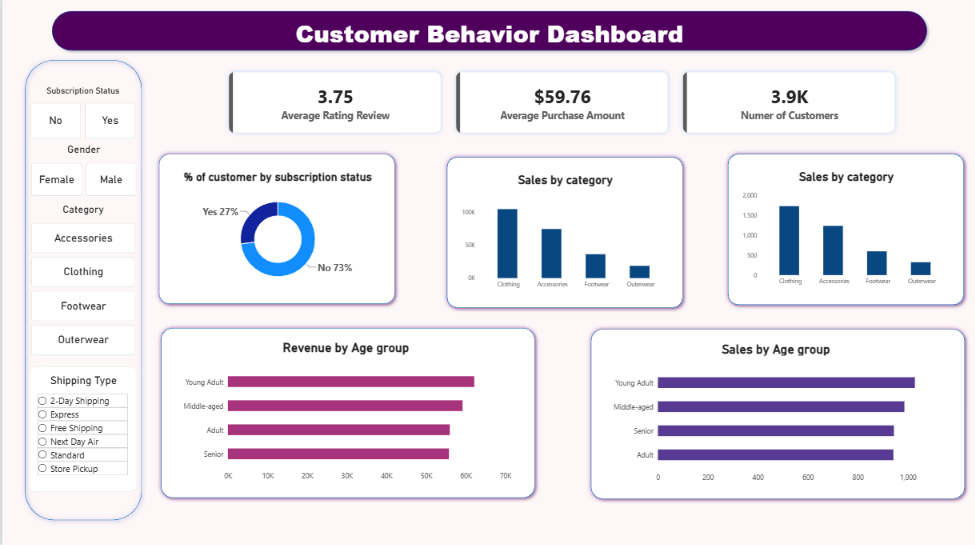

This screenshot's page, from the dashboard's own definition file:
{"tool":"powerbi","page":{"name":"Page 1","canvas":[1949,1096],"ordinal":0},"visuals":[{"type":"cardVisual","fields":{"Data":["public customer.Average Rating Review","public customer.Average Purchase Amount","public customer.Numer of Customers"]},"box":[442.8,135.6,1356,144],"z":0},{"type":"shape","box":[90,16,1768.6,97.7],"z":1000},{"type":"shape","box":[304,301.2,490,318],"z":2000},{"type":"donutChart","title":"% of customer by subscription status","fields":{"Category":["public customer.subscription_status"],"Y":["CountNonNull(public customer.customer_id)"]},"box":[328,327.2,446,266],"z":3000},{"type":"shape","box":[308,650,766,358],"z":4000},{"type":"shape","box":[1442,301.2,490,320],"z":5000},{"type":"clusteredColumnChart","title":"Sales by category","fields":{"Category":["public customer.category"],"Y":["CountNonNull(public customer.customer_id)"]},"box":[1464,327.2,448,266],"z":6000},{"type":"shape","box":[36,114,252,938.8],"z":7000},{"type":"advancedSlicerVisual","title":"Subscription Status","fields":{"Values":["public customer.subscription_status"]},"box":[56,174,210,106],"z":8000},{"type":"advancedSlicerVisual","title":"Gender","fields":{"Values":["public customer.gender"]},"box":[58,290,210,106],"z":9000},{"type":"advancedSlicerVisual","title":"Category","fields":{"Values":["public customer.category"]},"box":[58,410.8,208,304],"z":10000},{"type":"listSlicer","title":"Shipping Type","fields":{"Values":["public customer.shipping_type"]},"box":[53.6,736.4,214.8,250],"z":11000},{"type":"barChart","title":"Revenue by Age group","fields":{"Category":["public customer.age_group"],"Y":["Sum(public customer.purchase_amount)"]},"box":[340,670,694,316],"z":12000},{"type":"shape","box":[880.8,308,490,320],"z":13000},{"type":"clusteredColumnChart","title":"Sales by category","fields":{"Category":["public customer.category"],"Y":["Sum(public customer.purchase_amount)"]},"box":[902.8,334,448,266],"z":14000},{"type":"shape","box":[1167.6,652,766,358],"z":15000},{"type":"barChart","title":"Sales by Age group","fields":{"Category":["public customer.age_group"],"Y":["CountNonNull(public customer.customer_id)"]},"box":[1199.6,672,694,316],"z":16000}]}

Visuals, with their boxes in screenshot pixels (x1, y1, x2, y2), scaled from the page's 1949x1096 canvas onto the 975x545 screenshot:
cardVisual - public customer.Average Rating Review x public customer.Average Purchase Amount: bbox=[222, 67, 900, 139]
shape: bbox=[45, 8, 930, 57]
shape: bbox=[152, 150, 397, 308]
"% of customer by subscription status" donutChart: bbox=[164, 163, 387, 295]
shape: bbox=[154, 323, 537, 501]
shape: bbox=[721, 150, 966, 309]
"Sales by category" clusteredColumnChart: bbox=[732, 163, 956, 295]
shape: bbox=[18, 57, 144, 524]
"Subscription Status" advancedSlicerVisual: bbox=[28, 87, 133, 139]
"Gender" advancedSlicerVisual: bbox=[29, 144, 134, 197]
"Category" advancedSlicerVisual: bbox=[29, 204, 133, 355]
"Shipping Type" listSlicer: bbox=[27, 366, 134, 490]
"Revenue by Age group" barChart: bbox=[170, 333, 517, 490]
shape: bbox=[441, 153, 686, 312]
"Sales by category" clusteredColumnChart: bbox=[452, 166, 676, 298]
shape: bbox=[584, 324, 967, 502]
"Sales by Age group" barChart: bbox=[600, 334, 947, 491]
